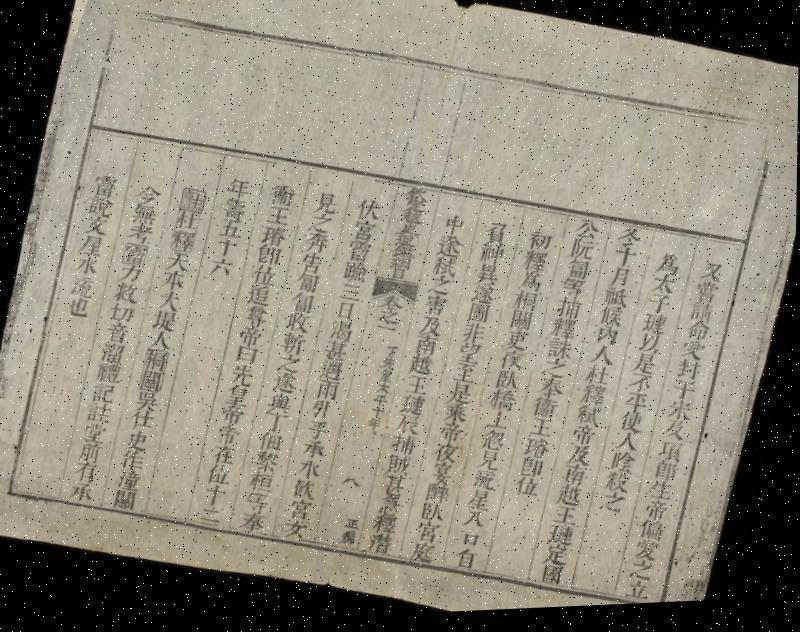c: (560, 262, 594, 300), (176, 184, 211, 217), (399, 186, 432, 218), (353, 196, 386, 228), (480, 221, 512, 253), (487, 389, 520, 420), (119, 240, 152, 271), (552, 297, 586, 327), (652, 253, 684, 284), (529, 398, 562, 428), (444, 382, 477, 412), (218, 197, 251, 227), (664, 401, 698, 430), (92, 360, 126, 389), (166, 228, 200, 257), (116, 446, 150, 474), (626, 562, 660, 590), (544, 525, 578, 553), (534, 378, 568, 406), (222, 175, 254, 204), (519, 252, 551, 281), (571, 220, 604, 248), (87, 380, 120, 408), (96, 340, 129, 368), (246, 470, 279, 498), (205, 255, 238, 283), (548, 320, 581, 348), (162, 248, 195, 276), (543, 340, 576, 368), (82, 401, 116, 428), (672, 362, 706, 389), (312, 190, 342, 220), (480, 428, 510, 458), (268, 182, 298, 212), (630, 355, 661, 384), (439, 213, 470, 242), (244, 284, 276, 312), (136, 368, 168, 396), (524, 230, 556, 258), (370, 514, 402, 542), (542, 546, 574, 574), (598, 494, 630, 522), (656, 442, 688, 470), (251, 450, 283, 478), (616, 413, 648, 441), (602, 474, 634, 502), (397, 394, 429, 422), (258, 224, 290, 252), (110, 280, 142, 308), (522, 438, 554, 466), (278, 332, 310, 360), (458, 324, 490, 352), (326, 320, 358, 348), (434, 236, 466, 264), (613, 227, 646, 254), (393, 415, 426, 442), (238, 511, 272, 537), (692, 284, 722, 313), (669, 382, 700, 410), (206, 462, 237, 490), (133, 182, 164, 210), (696, 263, 727, 291), (517, 458, 548, 486), (565, 446, 596, 474), (154, 288, 185, 316), (384, 259, 416, 286), (264, 392, 296, 419), (242, 491, 274, 518), (140, 348, 172, 375), (637, 521, 669, 548), (122, 428, 154, 455), (646, 481, 678, 508), (550, 507, 582, 534), (102, 320, 134, 347), (574, 406, 606, 433), (608, 454, 640, 481), (384, 455, 416, 482), (148, 308, 180, 335), (388, 434, 420, 461), (578, 387, 610, 414), (406, 355, 438, 382), (210, 236, 243, 262), (253, 245, 286, 271), (428, 258, 461, 284), (568, 240, 598, 268), (610, 247, 640, 275), (236, 324, 266, 352), (270, 371, 300, 399), (76, 438, 106, 466), (228, 363, 258, 391), (214, 424, 244, 452), (201, 483, 231, 511), (475, 450, 505, 478), (414, 522, 444, 550), (556, 486, 586, 514), (68, 274, 98, 302), (502, 332, 532, 360), (649, 276, 680, 303), (110, 487, 141, 514), (85, 194, 116, 221), (379, 475, 410, 502), (257, 430, 288, 457), (241, 305, 272, 332), (420, 295, 451, 322), (583, 367, 614, 394), (415, 317, 446, 344), (641, 502, 673, 528), (70, 460, 102, 486), (632, 542, 664, 568), (172, 209, 204, 235), (79, 421, 111, 447), (624, 582, 656, 608), (650, 464, 682, 490), (660, 422, 692, 448), (512, 478, 544, 504), (248, 264, 280, 290), (124, 221, 156, 247), (510, 292, 542, 318), (366, 534, 398, 560), (158, 269, 190, 295), (282, 312, 314, 338), (213, 219, 246, 244), (91, 172, 120, 200), (305, 418, 334, 446), (288, 292, 318, 319), (223, 385, 253, 412), (376, 494, 406, 521), (64, 295, 94, 322), (302, 232, 332, 259), (350, 221, 380, 248), (560, 467, 590, 494), (436, 423, 466, 450), (469, 471, 500, 497), (465, 490, 496, 516), (129, 202, 160, 228), (132, 389, 163, 415), (515, 273, 546, 299), (114, 468, 145, 494), (600, 290, 631, 316), (344, 242, 375, 268), (427, 464, 458, 490), (317, 360, 348, 386), (613, 434, 644, 460), (76, 232, 107, 258), (402, 376, 433, 402), (468, 285, 499, 311), (411, 336, 442, 362), (409, 543, 440, 569), (472, 266, 503, 292), (431, 444, 462, 470), (295, 458, 326, 484), (569, 427, 600, 453), (422, 484, 454, 509), (607, 268, 635, 296), (298, 252, 326, 280), (287, 499, 316, 526), (622, 394, 652, 420), (454, 344, 484, 370), (261, 412, 291, 438), (340, 263, 370, 289), (640, 316, 670, 342), (312, 380, 342, 406), (497, 352, 527, 378), (322, 341, 352, 367), (300, 438, 330, 464), (588, 348, 618, 374), (464, 304, 494, 330), (507, 312, 537, 338), (290, 478, 320, 504), (678, 343, 709, 368), (686, 306, 718, 330), (106, 302, 138, 326), (645, 297, 675, 322), (596, 309, 626, 334), (210, 444, 240, 469), (68, 480, 98, 505), (128, 409, 158, 434), (336, 284, 366, 309), (82, 214, 112, 239), (683, 324, 714, 348), (493, 372, 524, 396), (72, 254, 103, 278), (594, 328, 622, 354), (308, 398, 336, 424), (451, 364, 480, 389), (338, 473, 367, 498), (538, 567, 567, 592), (282, 519, 311, 544), (540, 362, 570, 386), (419, 502, 449, 526), (146, 330, 176, 354), (477, 246, 507, 270), (274, 354, 304, 378), (218, 404, 248, 428), (264, 206, 294, 230), (442, 406, 472, 430), (454, 548, 481, 574), (636, 336, 664, 361), (293, 273, 321, 298), (461, 511, 490, 535), (233, 344, 262, 368), (116, 264, 145, 288), (427, 278, 456, 302), (626, 378, 656, 401), (528, 420, 556, 444), (197, 506, 226, 529), (397, 210, 430, 230), (390, 245, 420, 267), (486, 413, 514, 436), (306, 215, 334, 238), (395, 222, 425, 243), (374, 310, 404, 331), (334, 302, 360, 326), (458, 532, 485, 555), (377, 296, 407, 316), (362, 416, 386, 440), (372, 325, 401, 342), (393, 236, 422, 252), (338, 531, 360, 551), (374, 372, 398, 389), (342, 516, 362, 534), (381, 344, 402, 361), (371, 394, 392, 411), (380, 358, 399, 375), (368, 407, 388, 423), (374, 384, 394, 399)
